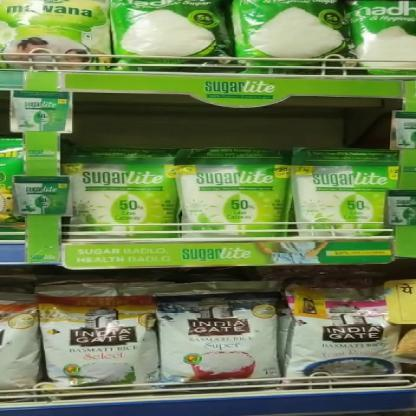SUGARLITE POUCH 500G: (65, 154, 180, 240), (178, 155, 294, 240), (293, 154, 400, 238)
